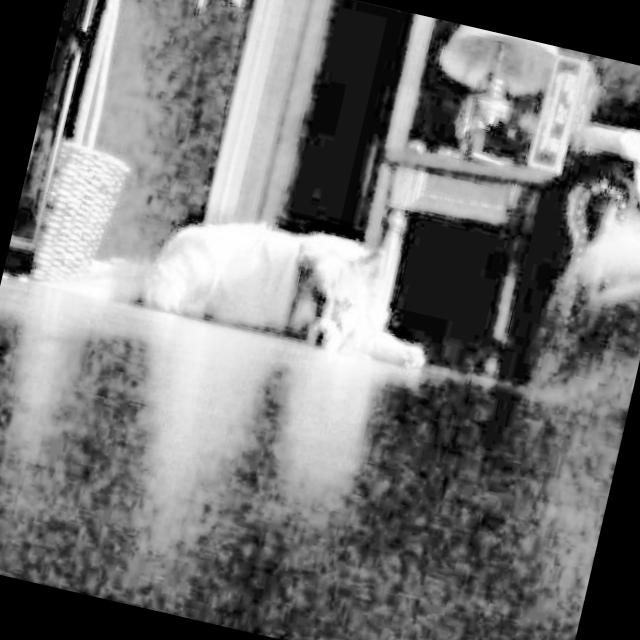Dog: (134, 184, 453, 378)
